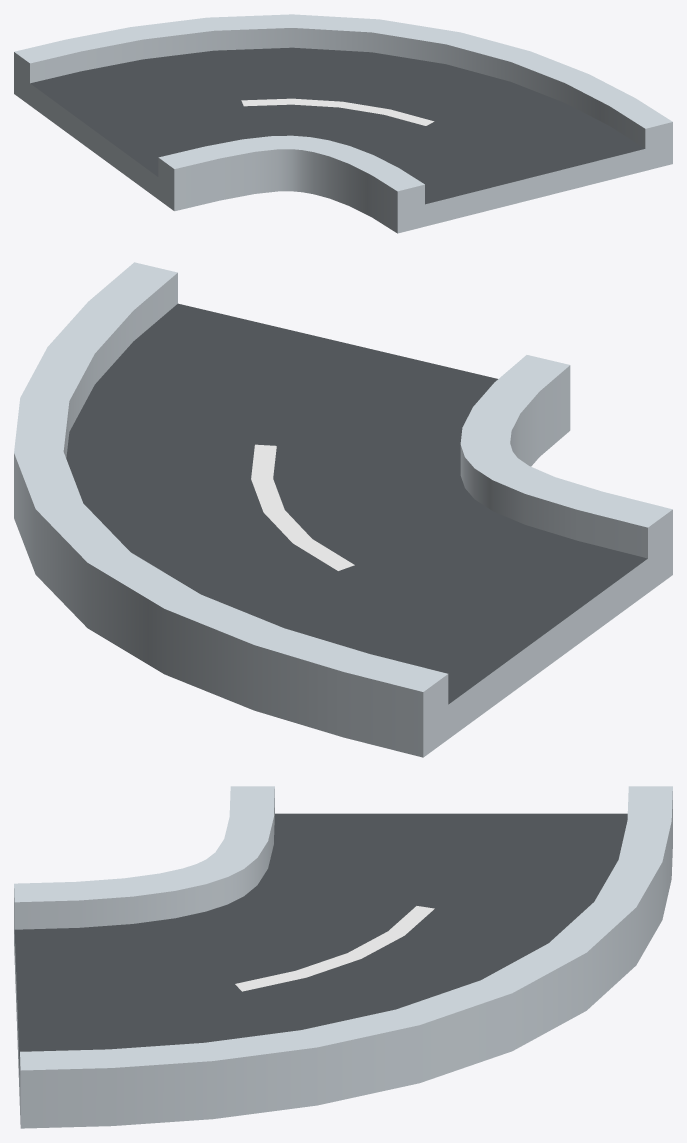
The model's file is Turn Right Road.fbx.
3 renders of one model, top to bottom at view 1: azimuth 30°, elevation 25°; view 2: azimuth 150°, elevation 25°; view 3: azimuth 270°, elevation 25°, orthographic. The views are drawn at different scales.
Visible parts, largest first — view 1: polySurface922; view 2: polySurface922; view 3: polySurface922.
Boxes of the visible parts, x1=… form: polySurface922: x1=14, y1=14, x2=672, y2=233; polySurface922: x1=14, y1=262, x2=672, y2=757; polySurface922: x1=14, y1=786, x2=672, y2=1128.
Bounding box in the file's own units: 73.9 × 7.05 × 72.44.
Materials: 1 (1 with a texture image).
